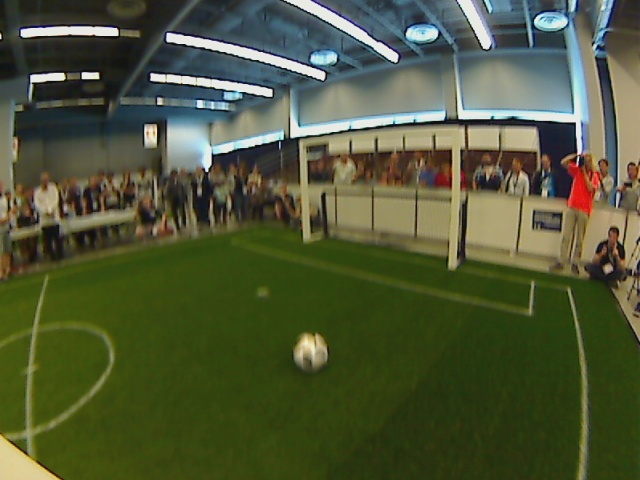ball: (293, 330, 328, 374)
